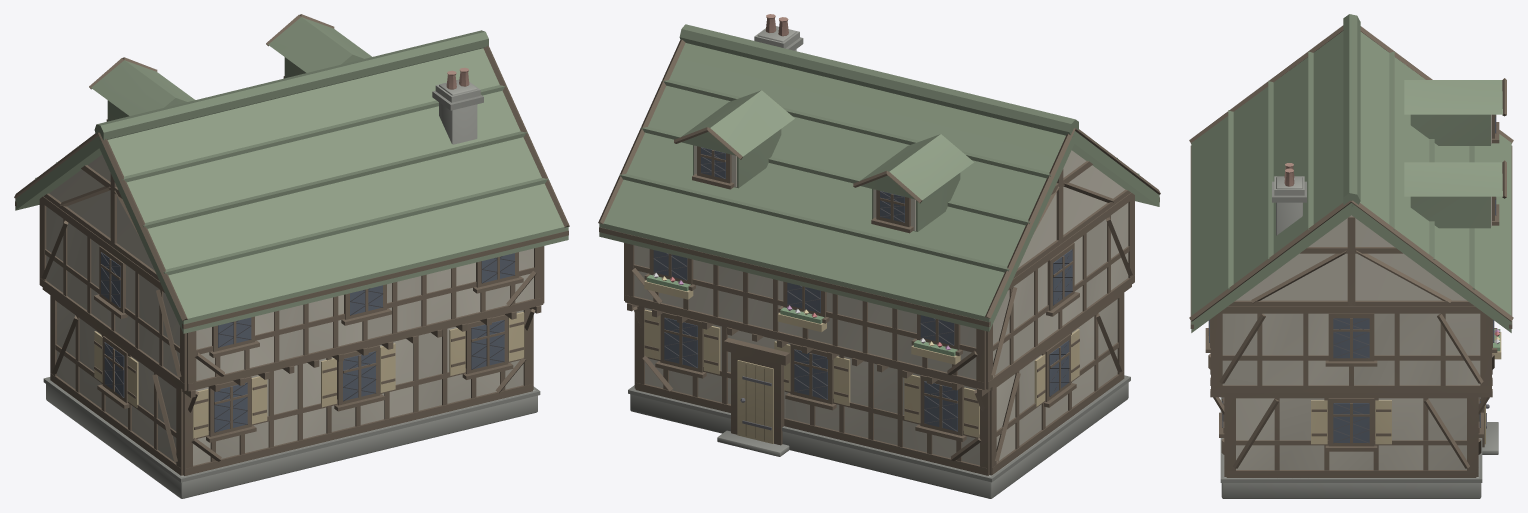
Rendered from hall_green.gltf.
The picture shows the model from 3 angles, left to right: view 1: azimuth 30°, elevation 25°; view 2: azimuth 150°, elevation 25°; view 3: azimuth 270°, elevation 25°; orthographic projection. The views are drawn at different scales.
Visible parts, largest first — view 1: Body; view 2: Body; view 3: Body.
Part boxes in pixels (x1,y1,x2,y2): Body: (14,14,569,498); Body: (598,14,1160,498); Body: (1189,14,1513,498).
Size of the model in its own units: 11.17 by 9.05 by 8.51.
